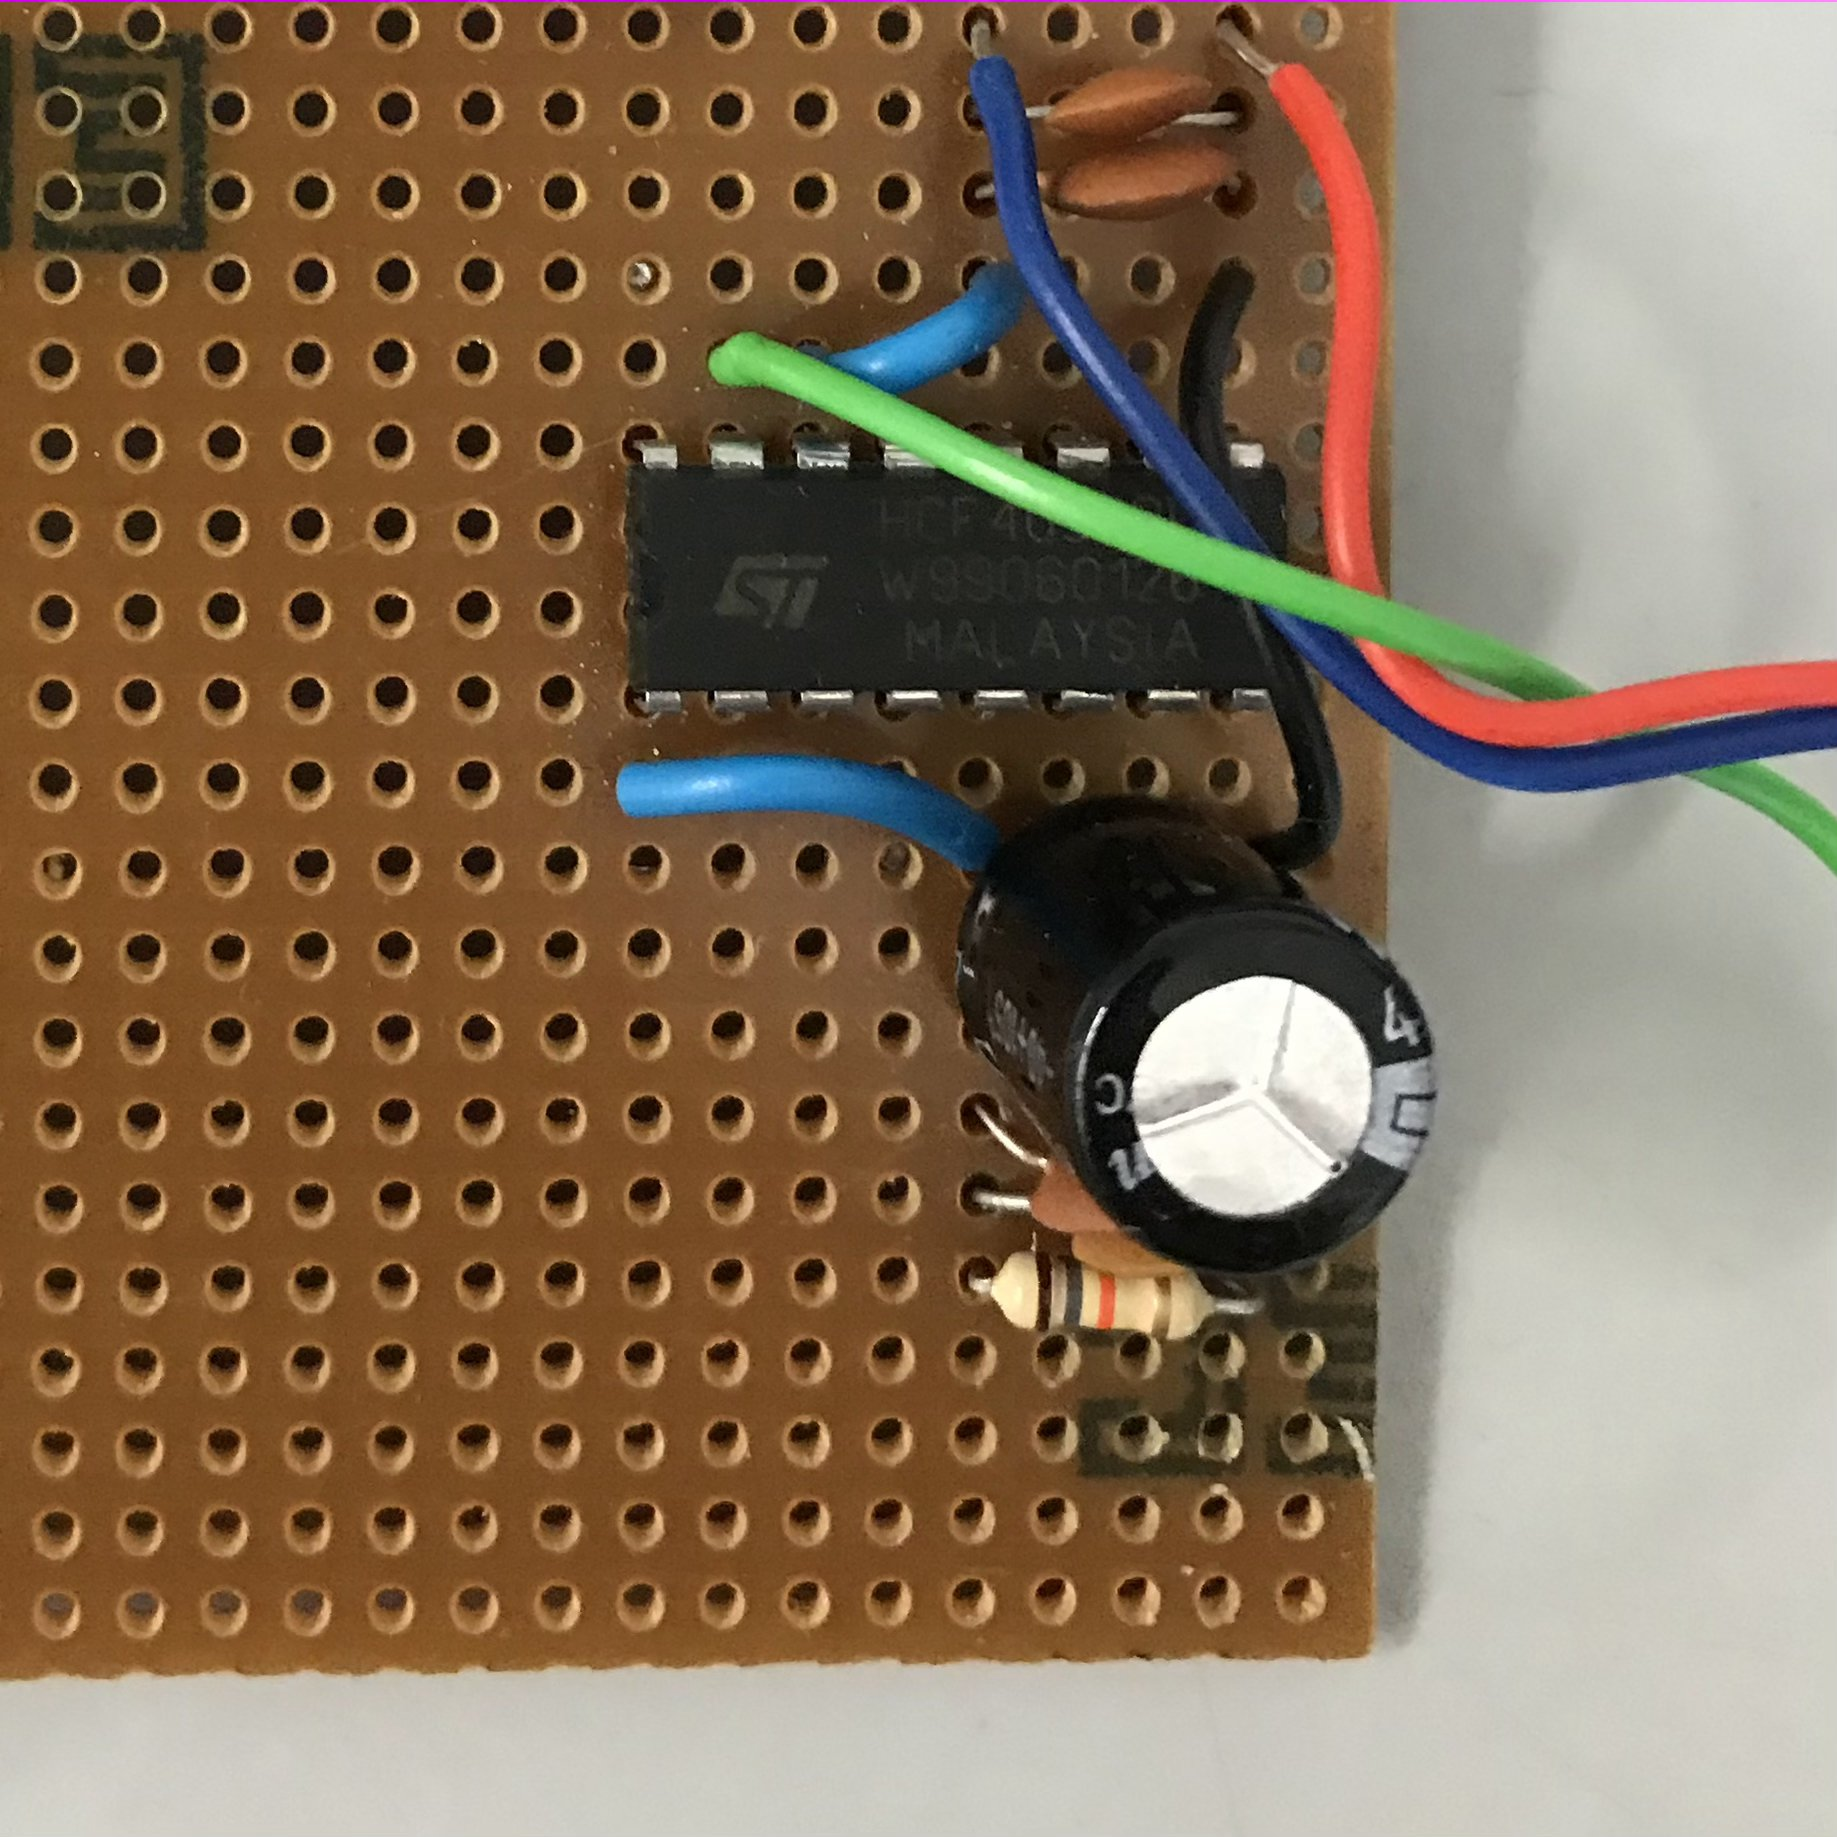Capacitor: (930, 784, 1447, 1277)
Resistor: (981, 1250, 1226, 1344)
